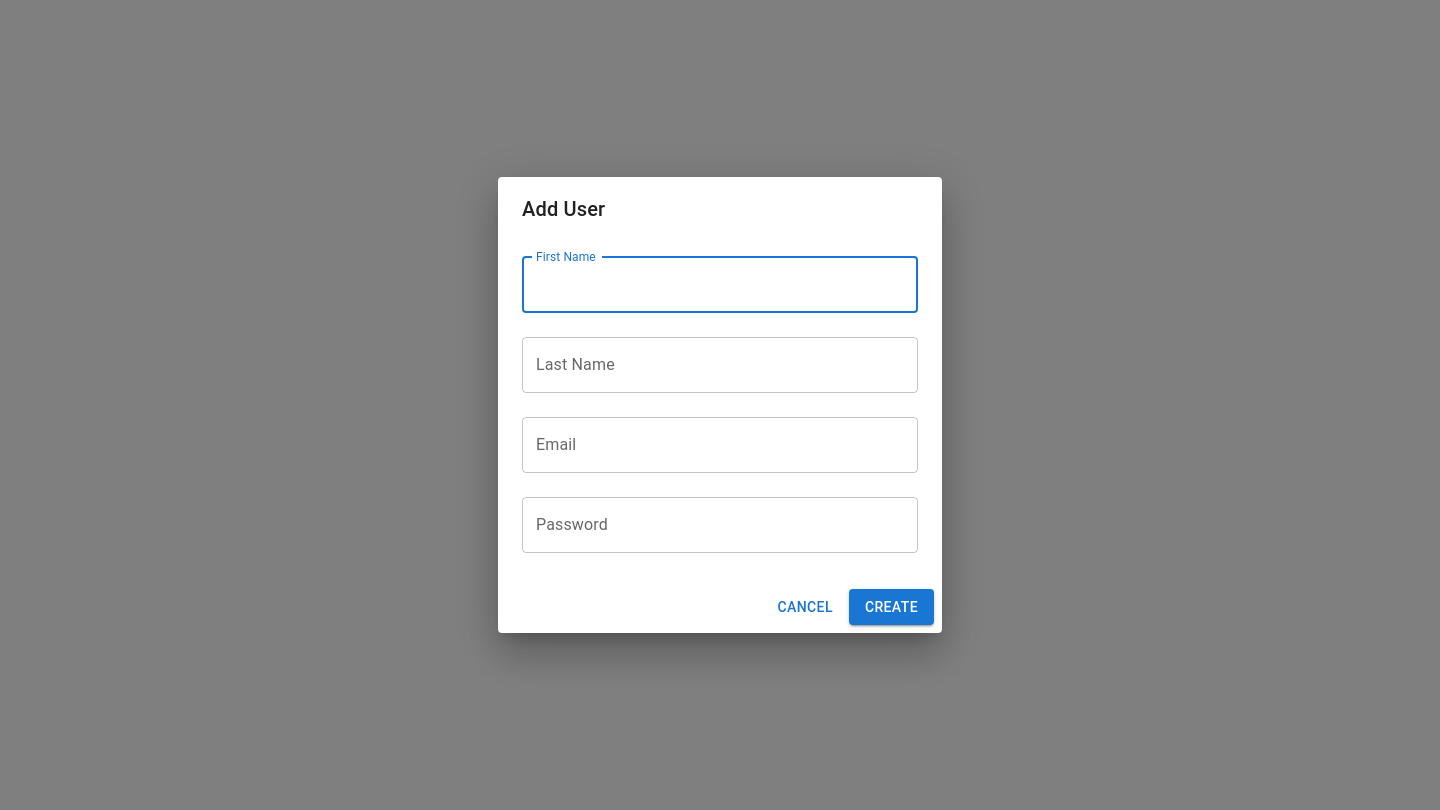
Scenario: UserFormDialog error paths › shows validation error when fields are empty
Click the button "Create" at point(891, 607), box [849,589,934,625]
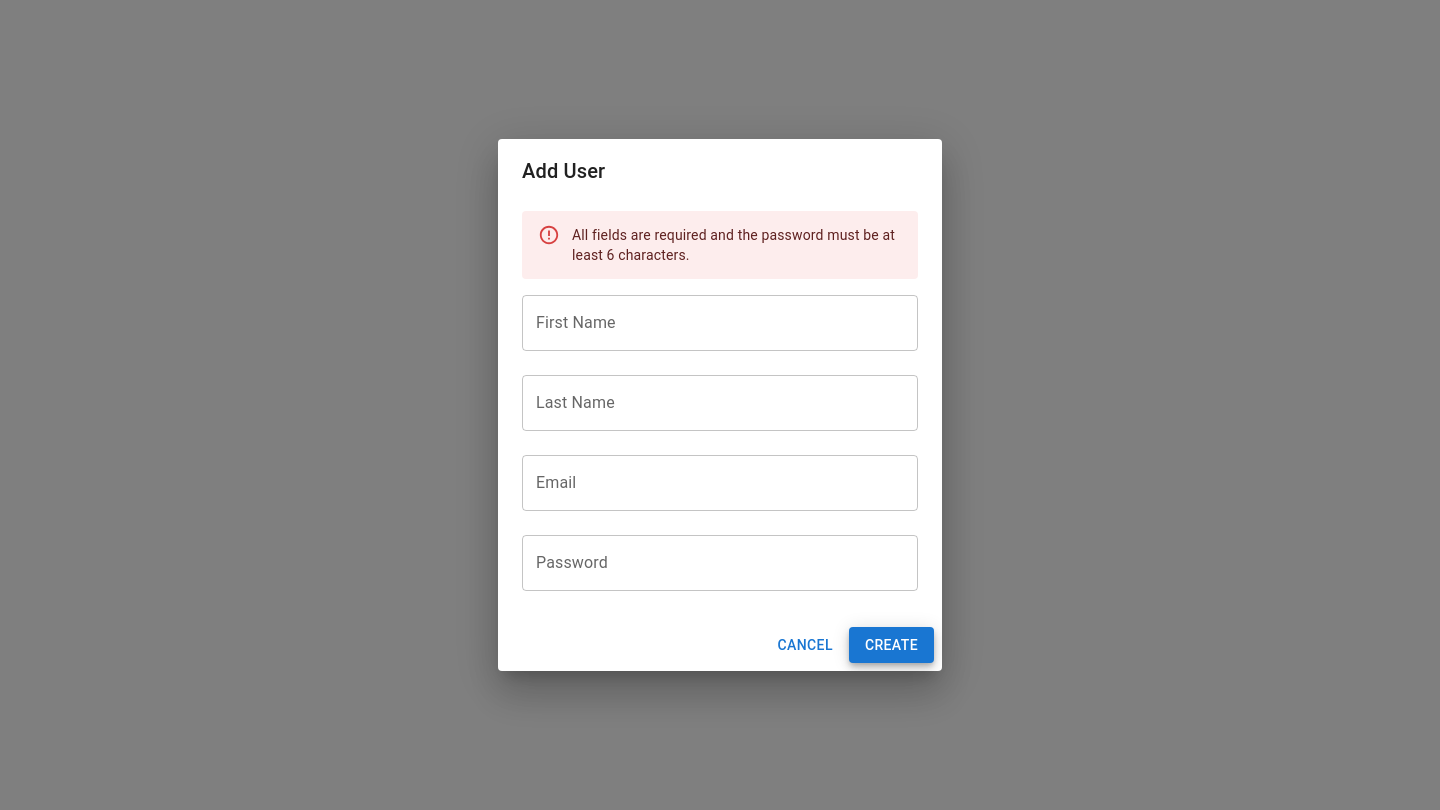
Expected: the message "All fields are required and the password must be at least 6 characters." is shown, [522,211,918,279]
